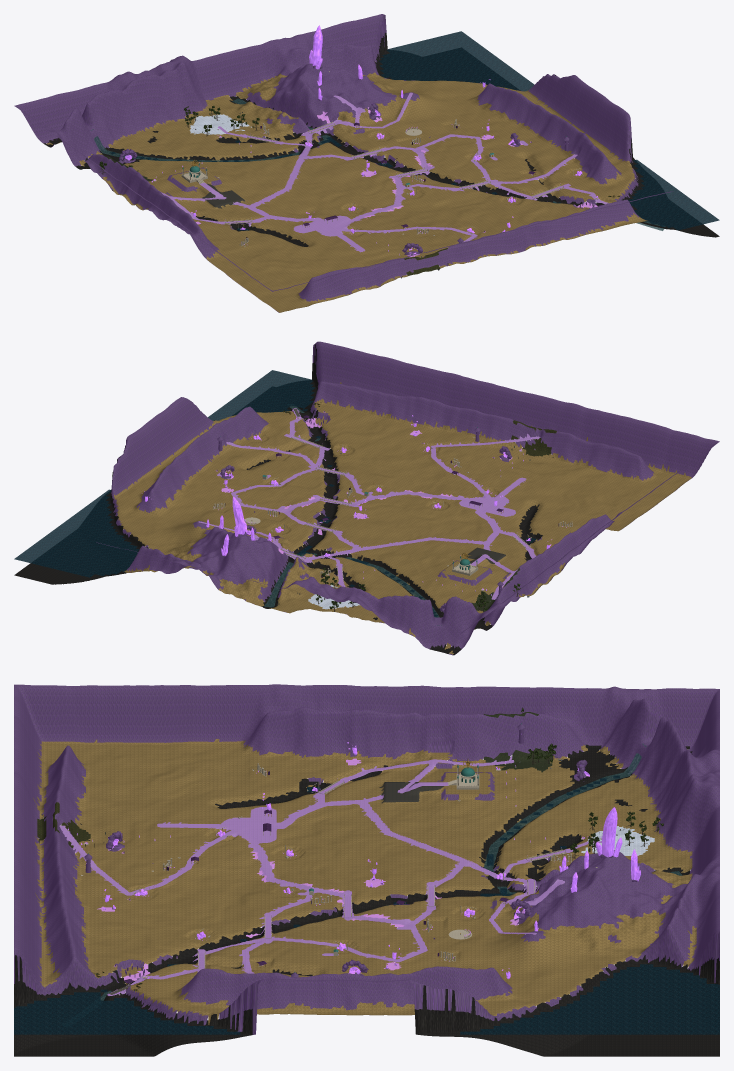
File: world-lod2.glb
3 views of the same model, one above another, from view 1: azimuth 30°, elevation 25°; view 2: azimuth 150°, elevation 25°; view 3: azimuth 270°, elevation 25° (orthographic). The views are drawn at different scales.
Parts seen in each view (by area): view 1: Terrain_Barrens, Terrain_StormRock, Water_Sea, Terrain_ResonantRoad, Terrain_Shore, Terrain_MarchWhitehornRange, Terrain_CrystalField, Water_RiverBeck; view 2: Terrain_Barrens, Terrain_StormRock, Water_Sea, Terrain_Shore, Terrain_ResonantRoad, Terrain_CrystalField; view 3: Terrain_Barrens, Terrain_StormRock, Terrain_Shore, Water_Sea, Terrain_ResonantRoad, Water_RiverBeck, Terrain_CrystalField, Terrain_MarchMirrorhold, Terrain_MarchWhitehornRange, Terrain_Paving, Crystal_MassifSpire_0__amethyst_crystal, Terrain_MarchSunmaneSteppe.
Part boxes in pixels (x1,y1,x2,y2): Terrain_Barrens: (46, 72, 647, 312); Terrain_StormRock: (14, 14, 673, 312); Water_Sea: (110, 31, 719, 230); Terrain_ResonantRoad: (158, 92, 608, 252); Terrain_Shore: (43, 32, 719, 246); Terrain_MarchWhitehornRange: (189, 114, 249, 134); Terrain_CrystalField: (196, 107, 597, 257); Water_RiverBeck: (90, 129, 328, 161); Terrain_Barrens: (114, 382, 691, 654); Terrain_StormRock: (96, 341, 719, 655); Water_Sea: (14, 370, 536, 617); Terrain_Shore: (14, 344, 542, 655); Terrain_ResonantRoad: (198, 408, 539, 599); Terrain_CrystalField: (221, 418, 512, 553); Terrain_Barrens: (33, 739, 696, 1024); Terrain_StormRock: (14, 684, 719, 1034); Terrain_Shore: (14, 744, 719, 1056); Water_Sea: (14, 775, 719, 1034); Terrain_ResonantRoad: (59, 756, 601, 995); Water_RiverBeck: (484, 743, 646, 893); Terrain_CrystalField: (97, 758, 539, 980); Terrain_MarchMirrorhold: (483, 712, 552, 772); Terrain_MarchWhitehornRange: (581, 826, 654, 855); Terrain_Paving: (379, 782, 443, 803); Crystal_MassifSpire_0__amethyst_crystal: (595, 807, 622, 857); Terrain_MarchSunmaneSteppe: (37, 802, 90, 847).
Size of the model in its own units: 636 by 128 by 636.
Materials: 34 (34 with a texture image).
